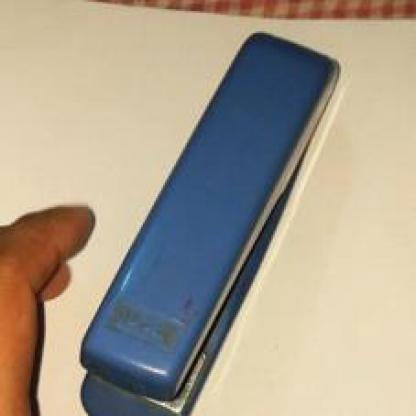stapler: (62, 20, 339, 414)
